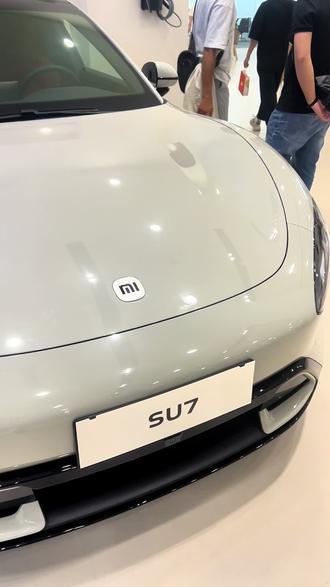su7: (0, 1, 327, 554)
